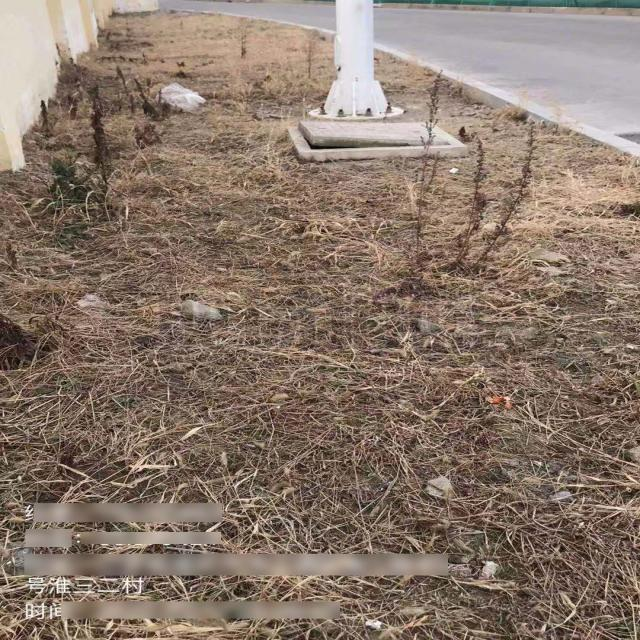Faulty: (286, 119, 465, 164)
